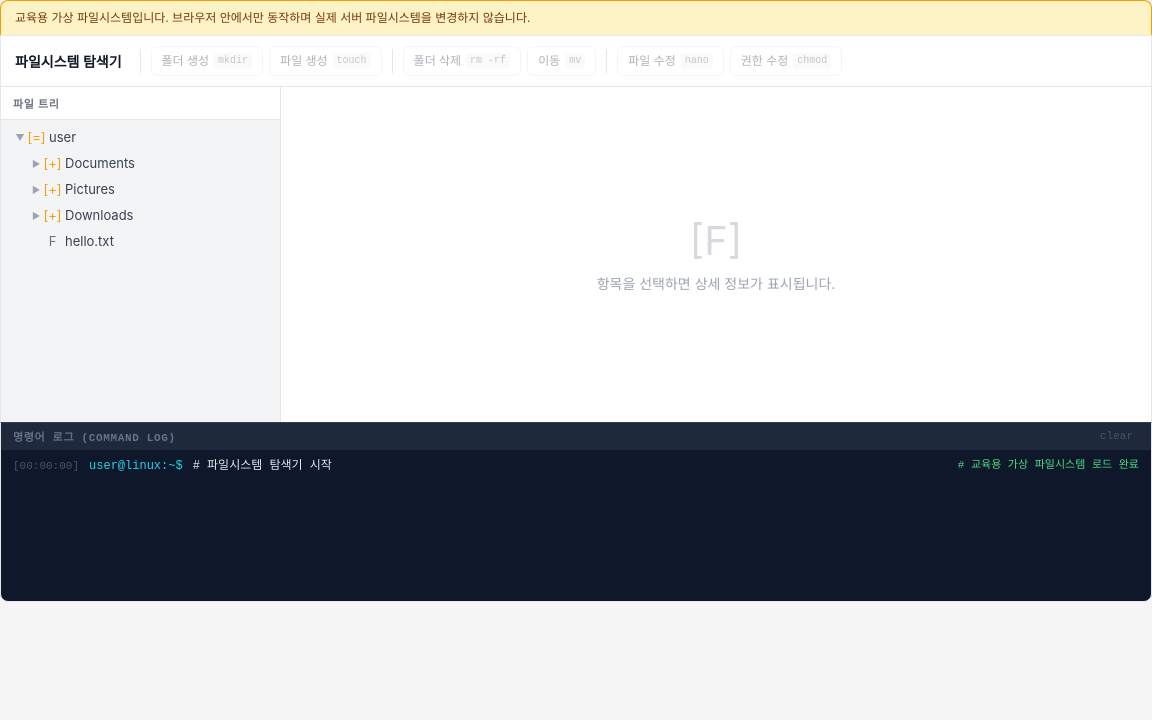
Scenario: FilesystemPage educational behaviour › creates a folder through the mkdir modal and records the command
Click the text "Documents" at (100, 163), box [65,155,135,171]
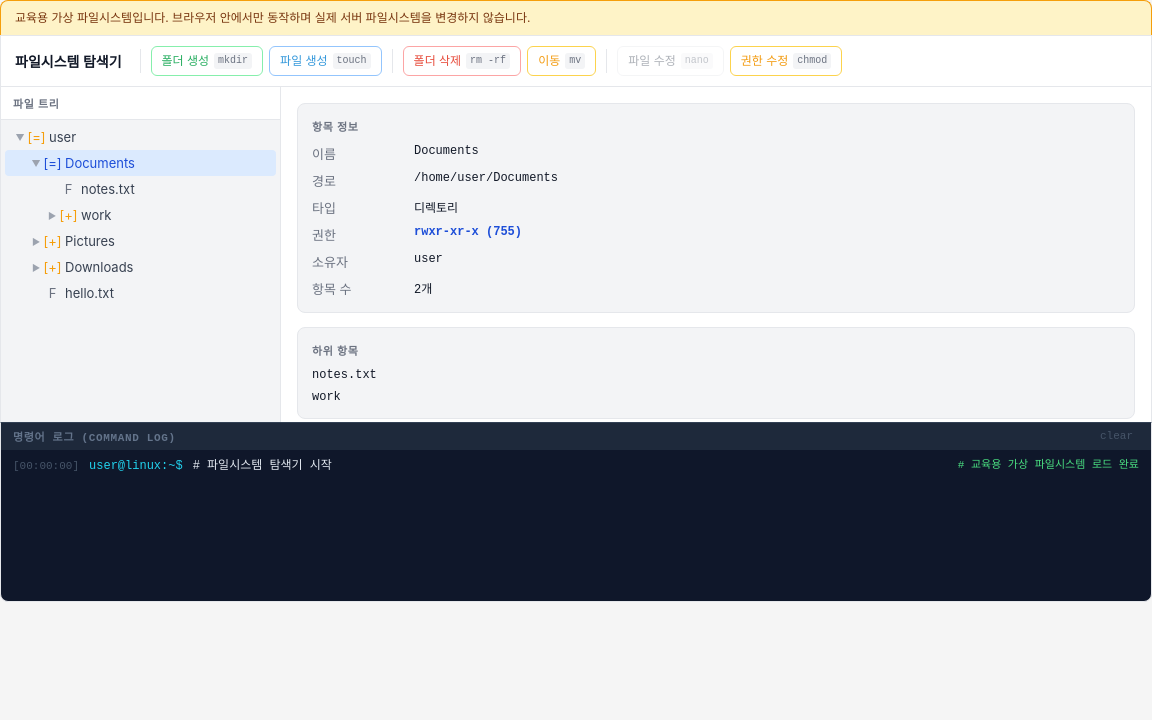
Click the button "폴더 생성 mkdir" at (207, 61), box [151,46,263,76]
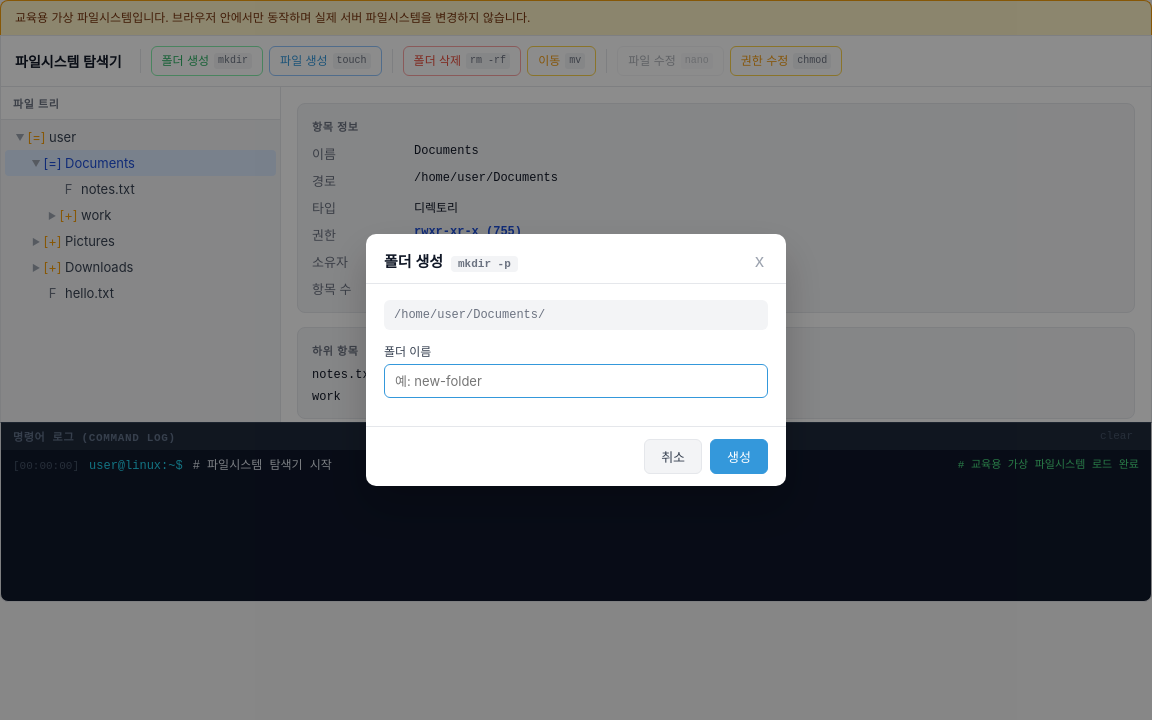
Type "reports" into the field with placeholder "예: new-folder" at (576, 381), box [384,364,768,398]
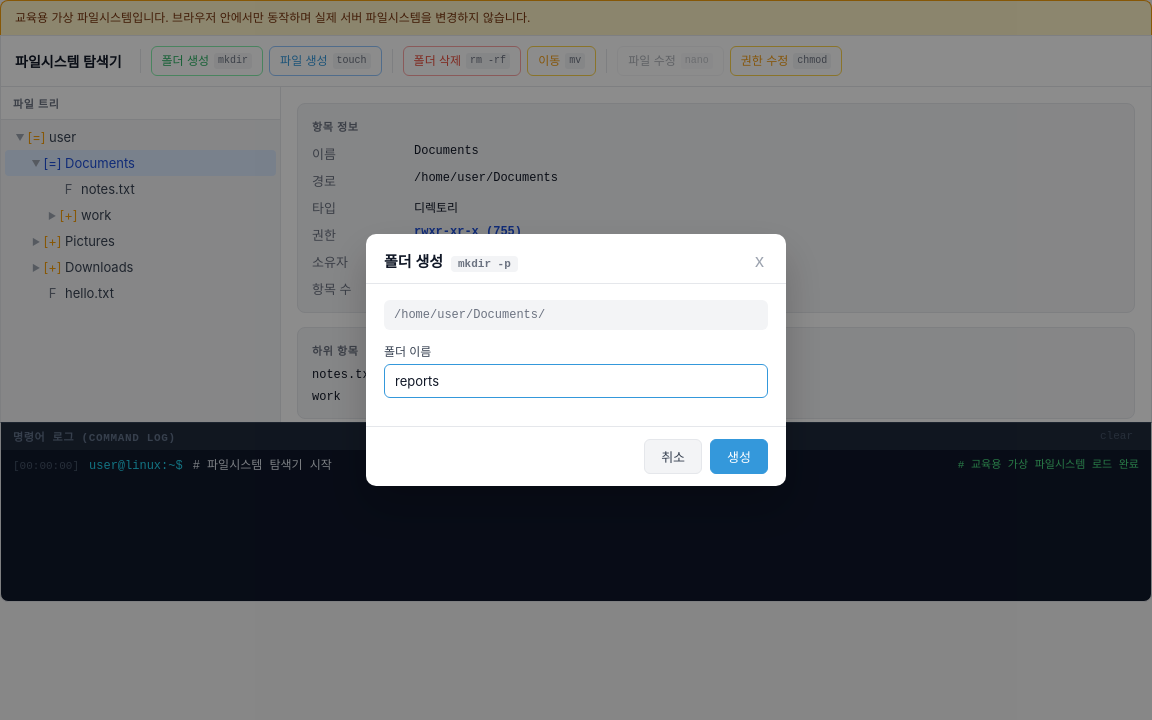
Click the button "생성" at (739, 456), box [710,439,768,474]
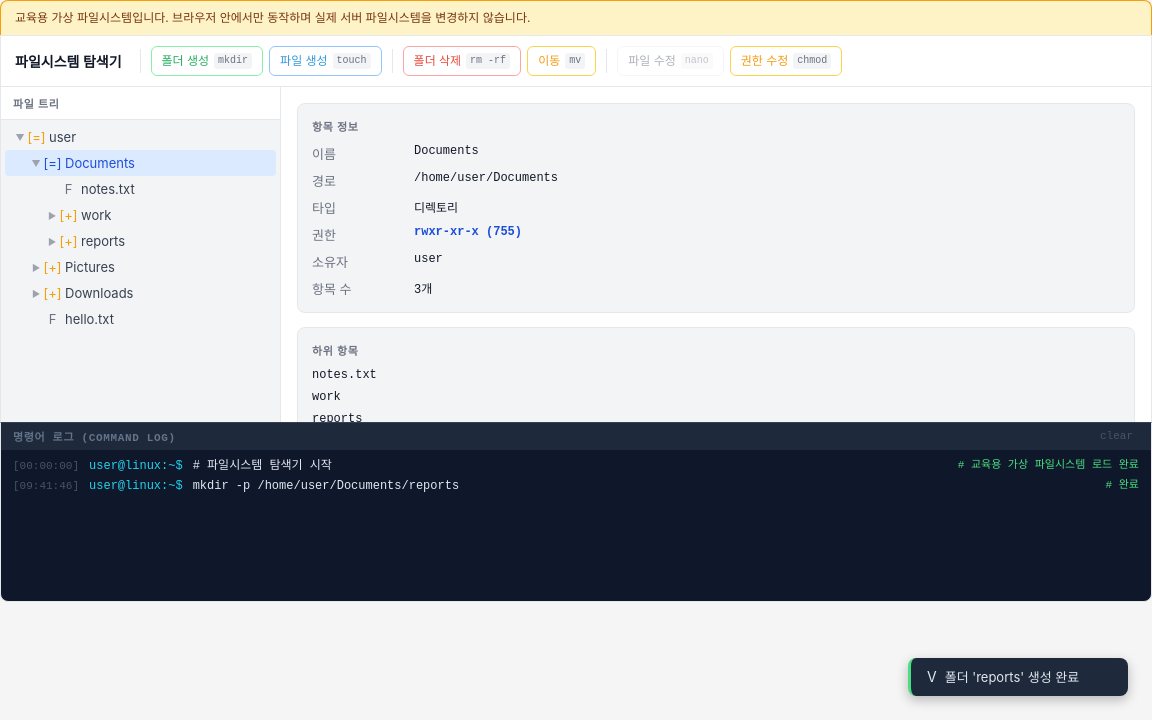
Expected: the text "reports" below "파일 트리" is shown, [81,233,125,249]
Expected: the text "mkdir -p /home/user/Documents/reports" is shown, [193,479,459,493]
